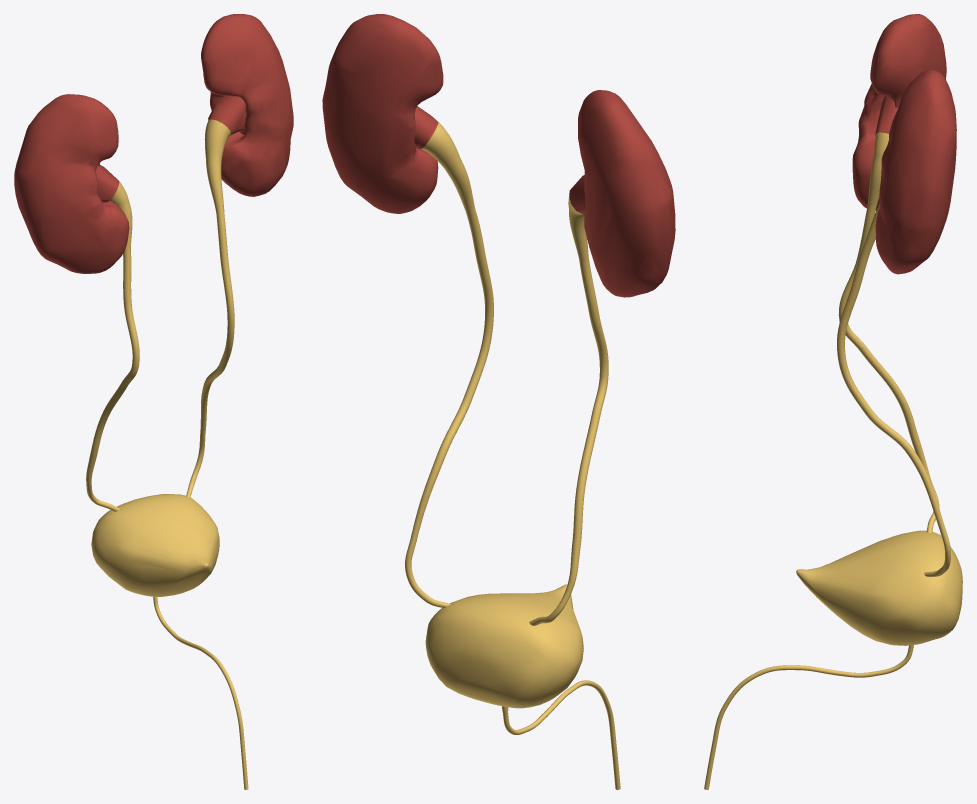
The model's file is sistema-urinario.glb.
3 renders of one model, left to right at view 1: azimuth 30°, elevation 25°; view 2: azimuth 150°, elevation 25°; view 3: azimuth 270°, elevation 25°, orthographic. The views are drawn at different scales.
Parts seen in each view (by area): view 1: Kidney.r, Kidney.l, Urinary bladder, Ureter.l, Ureter.r, Urethra, Renal pelvis.l, Renal pelvis.r; view 2: Kidney.l, Kidney.r, Urinary bladder, Ureter.l, Ureter.r, Urethra, Renal pelvis.l; view 3: Urinary bladder, Kidney.l, Kidney.r, Ureter.l, Ureter.r, Urethra, Renal pelvis.r.
Part boxes in pixels (x1,y1,x2,y2): Kidney.r: (14, 94, 129, 273); Kidney.l: (201, 14, 293, 196); Urinary bladder: (91, 494, 219, 596); Ureter.l: (186, 119, 234, 497); Ureter.r: (86, 181, 139, 511); Urethra: (153, 596, 248, 789); Renal pelvis.l: (208, 95, 246, 134); Renal pelvis.r: (96, 165, 119, 202); Kidney.l: (322, 14, 443, 213); Kidney.r: (578, 90, 675, 297); Urinary bladder: (425, 584, 583, 708); Ureter.l: (405, 122, 493, 607); Ureter.r: (529, 196, 608, 625); Urethra: (502, 680, 620, 789); Renal pelvis.l: (414, 106, 438, 149); Urinary bladder: (796, 530, 962, 645); Kidney.l: (875, 69, 956, 274); Kidney.r: (852, 14, 946, 210); Ureter.l: (837, 203, 950, 576); Ureter.r: (838, 132, 939, 532); Urethra: (704, 645, 913, 789); Renal pelvis.r: (875, 96, 898, 135).
Bounding box in the file's own units: 0.178 × 0.4203 × 0.1293.
